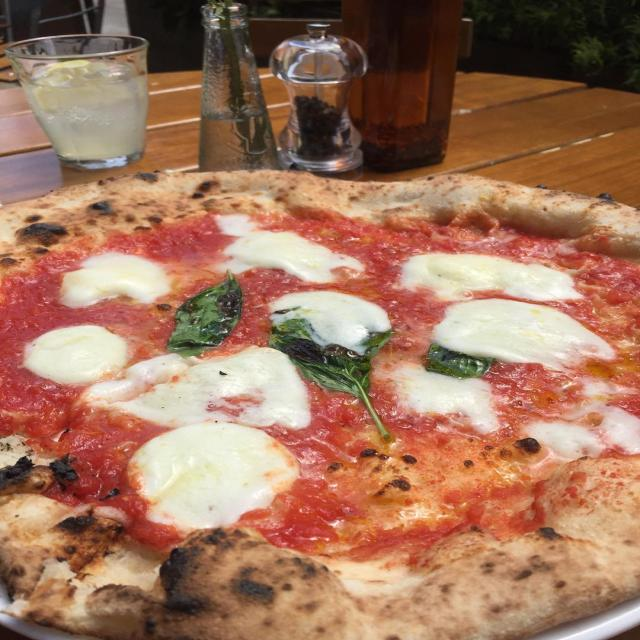basil: (270, 318, 392, 442), (167, 272, 247, 358), (421, 342, 496, 380)
pizza: (0, 167, 640, 640)
